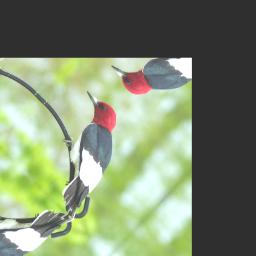Woodpecker: (16, 85, 149, 221)
